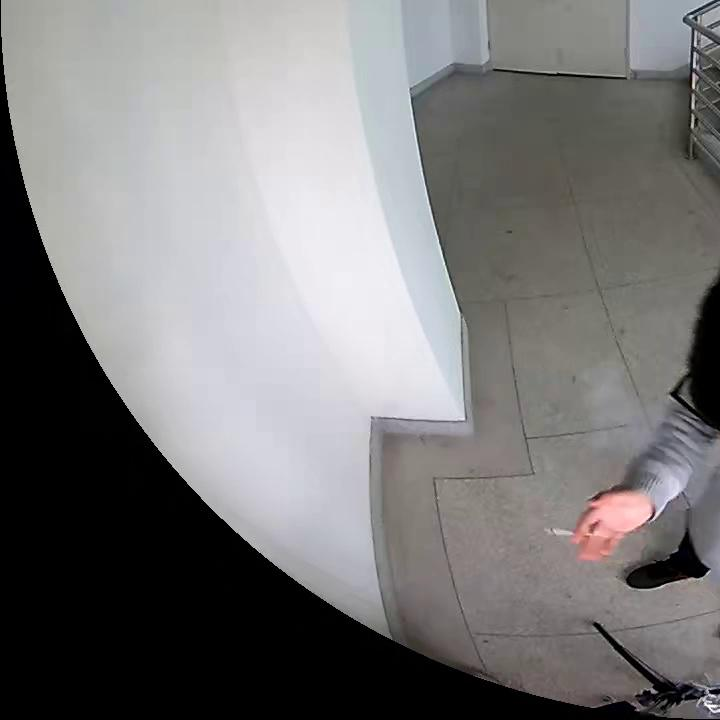handsmoke: (540, 483, 648, 565)
